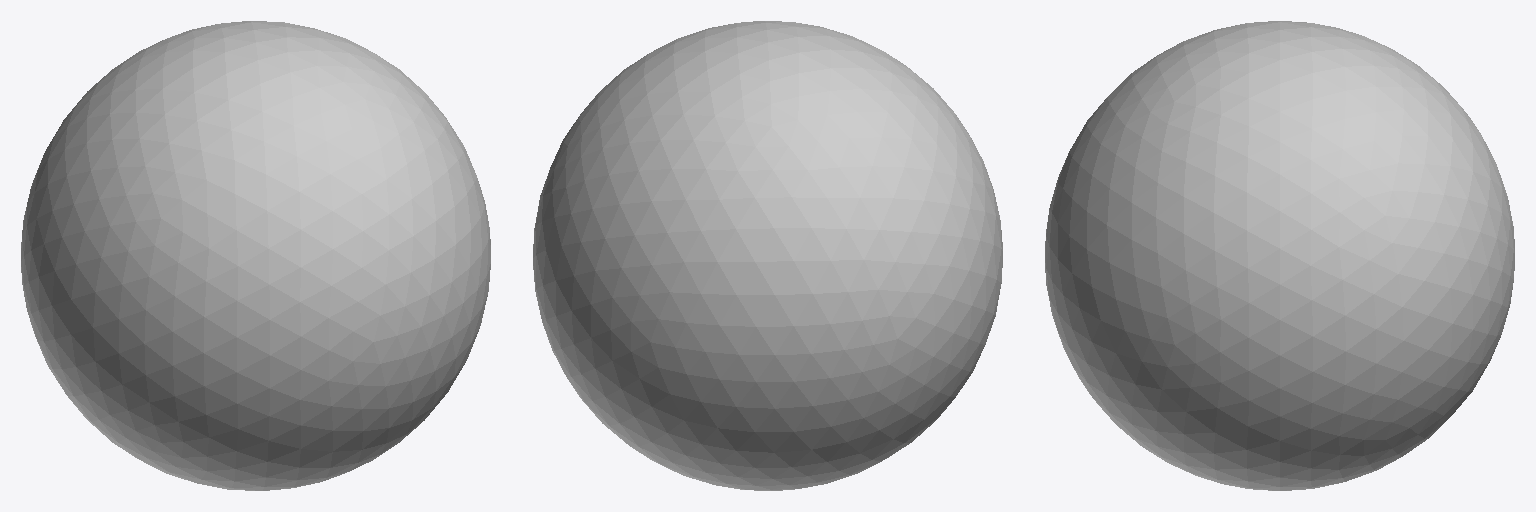
The model's file is sphere_smooth.obj.
3 views of the same model, side by side, from view 1: azimuth 30°, elevation 25°; view 2: azimuth 150°, elevation 25°; view 3: azimuth 270°, elevation 25° (orthographic).
Parts seen in each view (by area): view 1: Icosphere_Icosphere.001; view 2: Icosphere_Icosphere.001; view 3: Icosphere_Icosphere.001.
Part boxes in pixels (x1,y1,x2,y2): Icosphere_Icosphere.001: (21,21,490,490); Icosphere_Icosphere.001: (533,21,1002,490); Icosphere_Icosphere.001: (1045,21,1514,490).
Bounding box in the file's own units: 0.6 × 0.6 × 0.6.